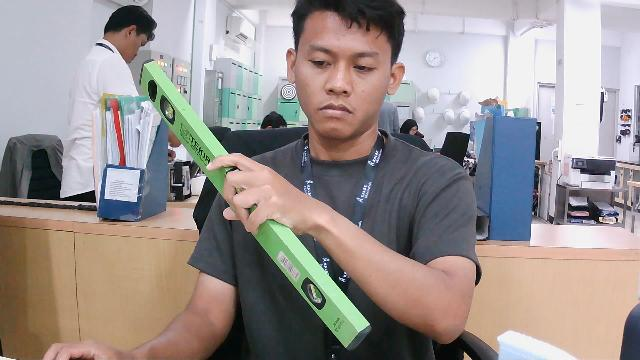water_pass: (132, 51, 374, 352)
